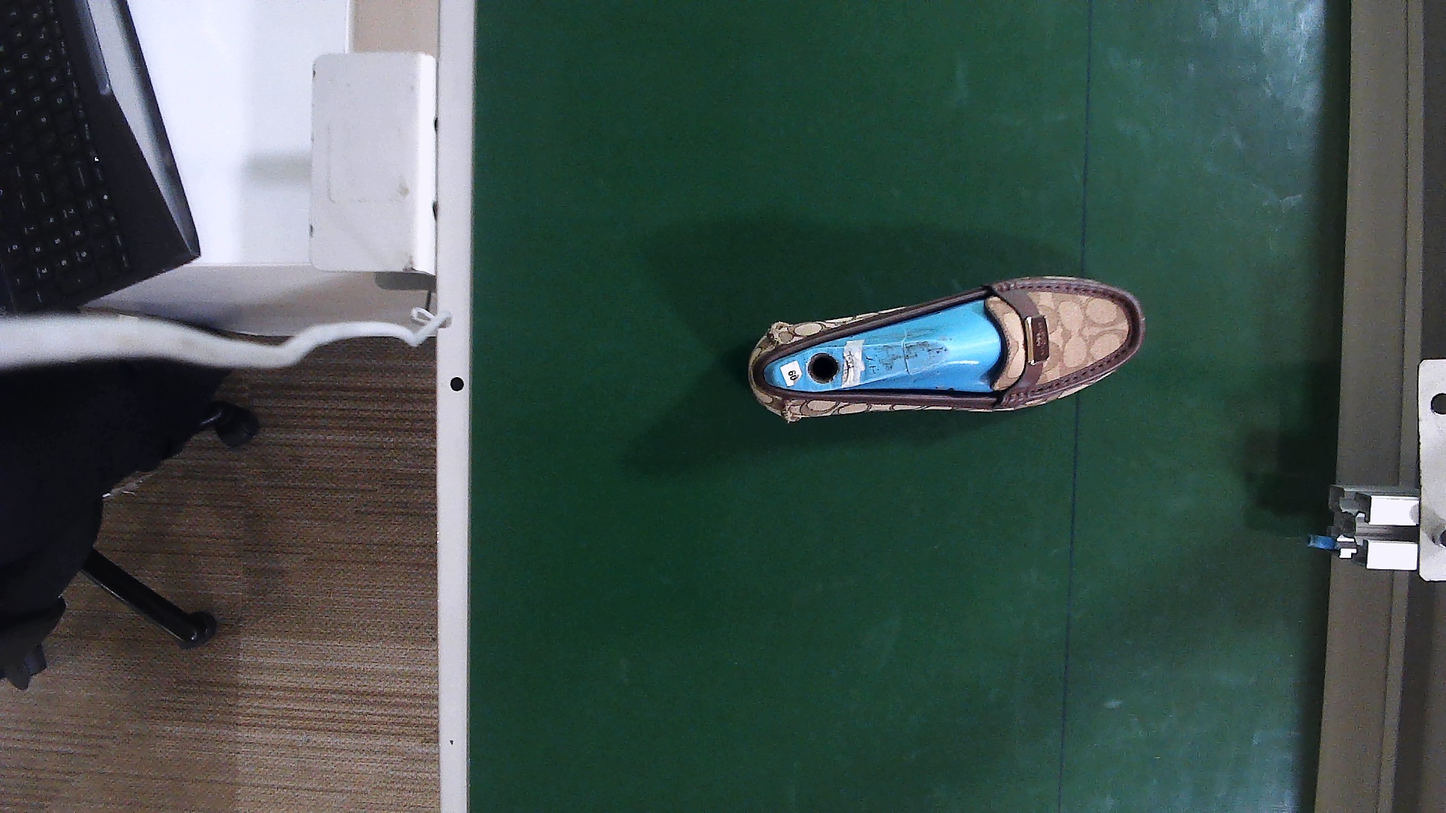shoe: (750, 279, 1145, 422)
